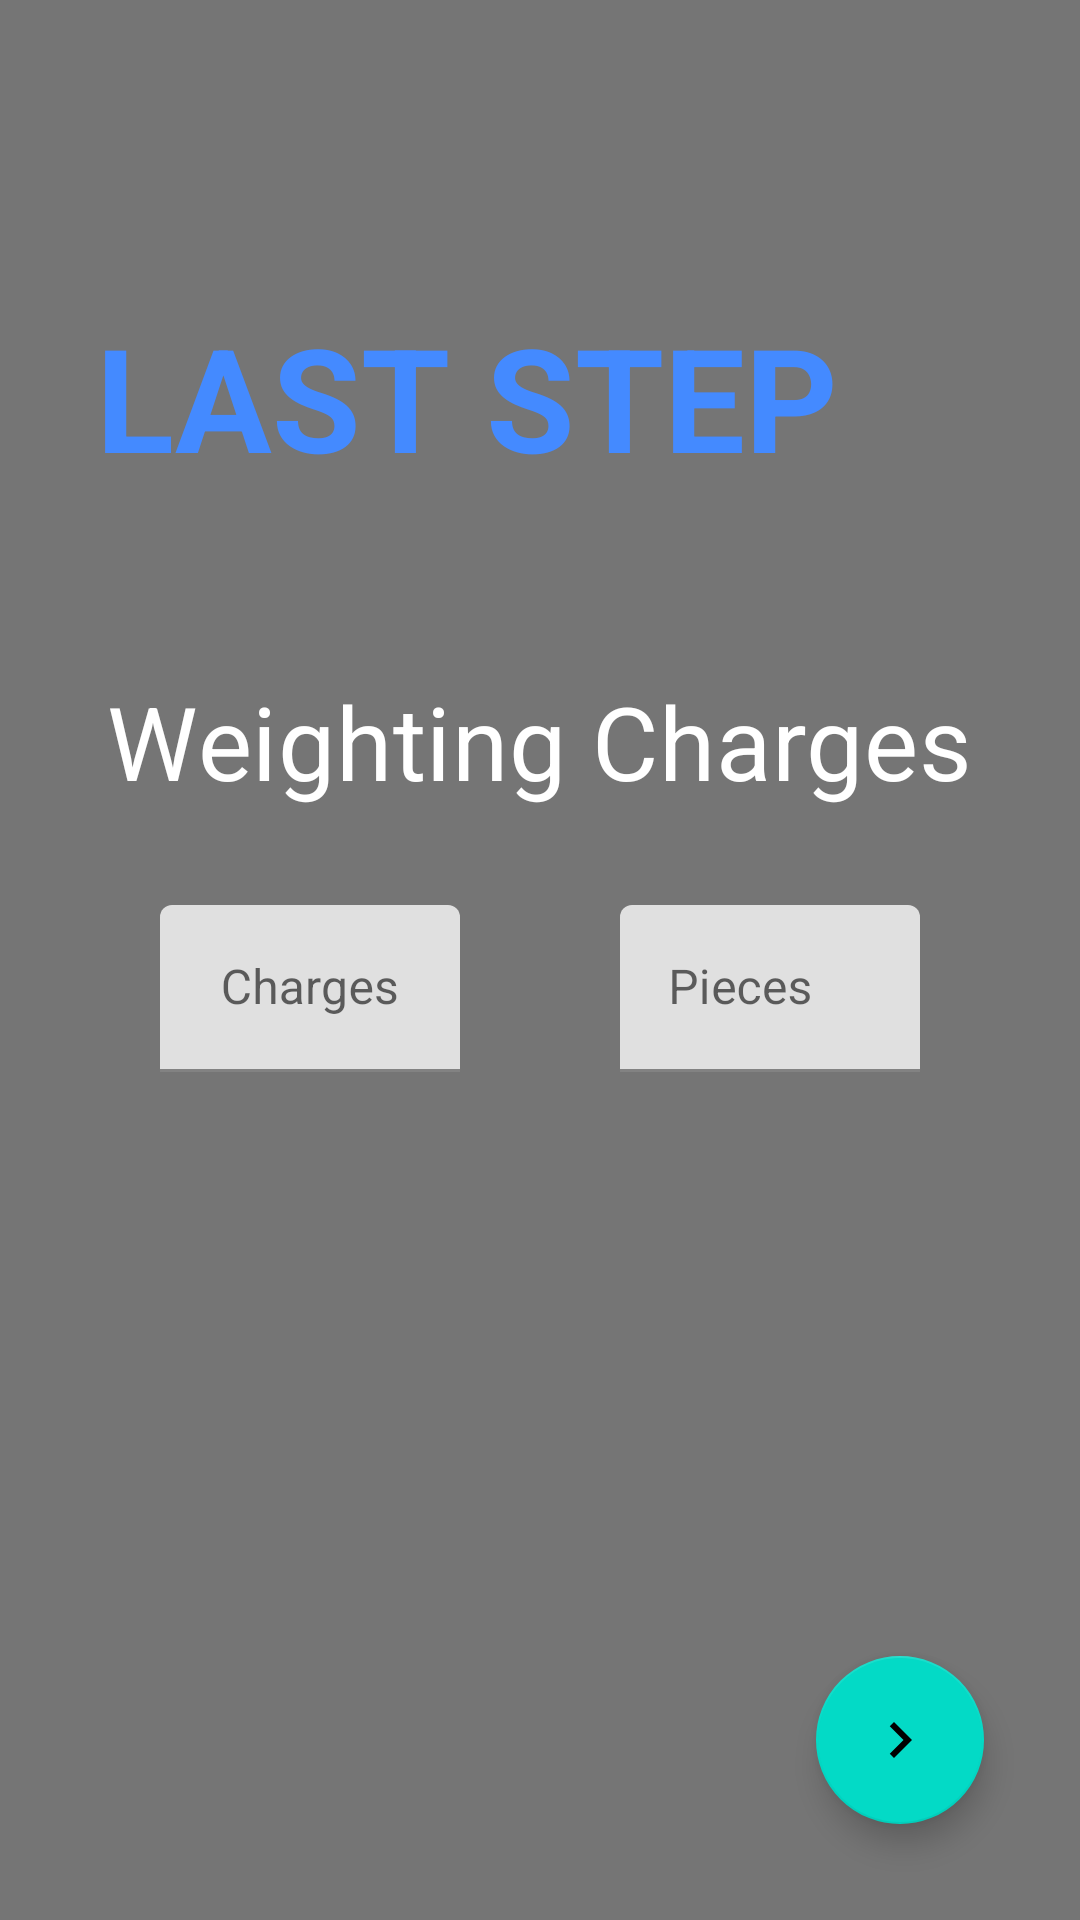

Icon bounding boxes for this 1080 x 1920 phone screenshot, format (x1, y1, x2, y2):
forward: (816, 1656, 984, 1824)
